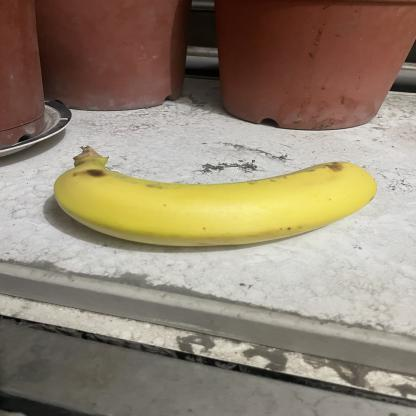banana: (44, 141, 378, 252)
